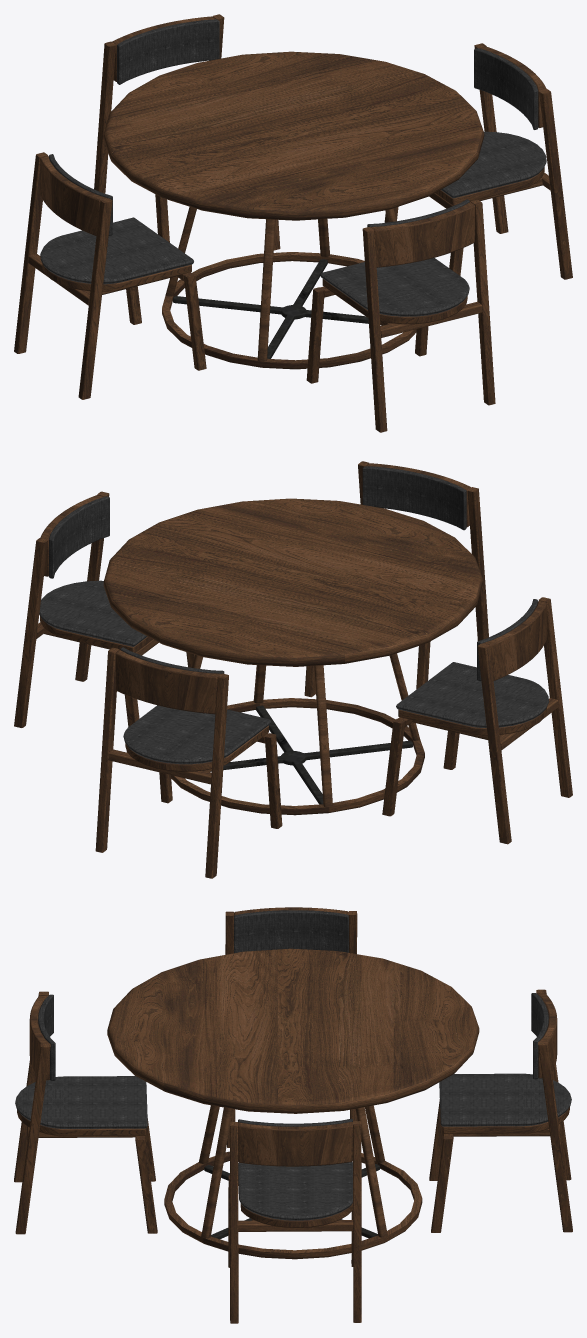
File: comedor.glb
3 views of the same model, one above another, from view 1: azimuth 30°, elevation 25°; view 2: azimuth 150°, elevation 25°; view 3: azimuth 270°, elevation 25° (orthographic). The views are drawn at different scales.
Parts seen in each view (by area): view 1: Mesh8_cgsmap_wood_oak_003_0, Mesh11_TELA_NEGRA_0, Mesh22_TELA_NEGRA_0, Mesh13_cgsmap_wood_oak_003_0, Mesh24_cgsmap_wood_oak_003_0, Mesh42_TELA_NEGRA_0, Mesh21_cgsmap_wood_oak_003_0, Mesh1_cgsmap_wood_oak_003_0, Mesh33_TELA_NEGRA_0, Mesh35_cgsmap_wood_oak_003_0, Mesh31_TELA_NEGRA_0, Mesh10_cgsmap_wood_oak_003_0 (+12 smaller); view 2: Mesh8_cgsmap_wood_oak_003_0, Mesh11_TELA_NEGRA_0, Mesh44_TELA_NEGRA_0, Mesh13_cgsmap_wood_oak_003_0, Mesh46_cgsmap_wood_oak_003_0, Mesh20_TELA_NEGRA_0, Mesh43_cgsmap_wood_oak_003_0, Mesh1_cgsmap_wood_oak_003_0, Mesh33_TELA_NEGRA_0, Mesh35_cgsmap_wood_oak_003_0, Mesh31_TELA_NEGRA_0, Mesh10_cgsmap_wood_oak_003_0 (+12 smaller); view 3: Mesh8_cgsmap_wood_oak_003_0, Mesh44_TELA_NEGRA_0, Mesh22_TELA_NEGRA_0, Mesh33_TELA_NEGRA_0, Mesh32_cgsmap_wood_oak_003_0, Mesh9_TELA_NEGRA_0, Mesh1_cgsmap_wood_oak_003_0, Mesh35_cgsmap_wood_oak_003_0, Mesh24_cgsmap_wood_oak_003_0, Mesh46_cgsmap_wood_oak_003_0, Mesh4_cgsmap_wood_oak_003_0, Mesh7_cgsmap_wood_oak_003_0 (+14 smaller).
Boxes of the visible parts, box(x1,y1,x2,y2) form: Mesh8_cgsmap_wood_oak_003_0: box(103, 51, 484, 220); Mesh11_TELA_NEGRA_0: box(40, 217, 193, 284); Mesh22_TELA_NEGRA_0: box(320, 258, 469, 316); Mesh13_cgsmap_wood_oak_003_0: box(14, 152, 112, 399); Mesh24_cgsmap_wood_oak_003_0: box(362, 199, 495, 432); Mesh42_TELA_NEGRA_0: box(117, 19, 219, 84); Mesh21_cgsmap_wood_oak_003_0: box(371, 202, 474, 267); Mesh1_cgsmap_wood_oak_003_0: box(162, 252, 416, 369); Mesh33_TELA_NEGRA_0: box(441, 131, 546, 198); Mesh35_cgsmap_wood_oak_003_0: box(474, 43, 572, 279); Mesh31_TELA_NEGRA_0: box(474, 48, 538, 129); Mesh10_cgsmap_wood_oak_003_0: box(40, 156, 106, 235); Mesh8_cgsmap_wood_oak_003_0: box(103, 498, 482, 666); Mesh11_TELA_NEGRA_0: box(396, 662, 548, 727); Mesh44_TELA_NEGRA_0: box(123, 705, 271, 764); Mesh13_cgsmap_wood_oak_003_0: box(477, 597, 572, 844); Mesh46_cgsmap_wood_oak_003_0: box(95, 647, 228, 878); Mesh20_TELA_NEGRA_0: box(362, 466, 466, 530); Mesh43_cgsmap_wood_oak_003_0: box(115, 650, 220, 714); Mesh1_cgsmap_wood_oak_003_0: box(171, 698, 424, 815); Mesh33_TELA_NEGRA_0: box(39, 580, 147, 646); Mesh35_cgsmap_wood_oak_003_0: box(14, 491, 109, 727); Mesh31_TELA_NEGRA_0: box(49, 496, 109, 578); Mesh10_cgsmap_wood_oak_003_0: box(482, 601, 546, 680); Mesh8_cgsmap_wood_oak_003_0: box(107, 948, 479, 1113); Mesh44_TELA_NEGRA_0: box(439, 1073, 571, 1126); Mesh22_TELA_NEGRA_0: box(15, 1076, 147, 1128); Mesh33_TELA_NEGRA_0: box(238, 1162, 352, 1220); Mesh32_cgsmap_wood_oak_003_0: box(238, 1121, 352, 1166); Mesh9_TELA_NEGRA_0: box(234, 910, 348, 953); Mesh1_cgsmap_wood_oak_003_0: box(164, 1151, 422, 1259); Mesh35_cgsmap_wood_oak_003_0: box(229, 1121, 361, 1323); Mesh24_cgsmap_wood_oak_003_0: box(14, 991, 50, 1234); Mesh46_cgsmap_wood_oak_003_0: box(536, 989, 572, 1232); Mesh4_cgsmap_wood_oak_003_0: box(201, 1107, 232, 1238); Mesh7_cgsmap_wood_oak_003_0: box(355, 1107, 387, 1237).
Bounding box in the file's own units: 0.0212 × 0.00785 × 0.0212.
Materials: 3 (3 with a texture image).
